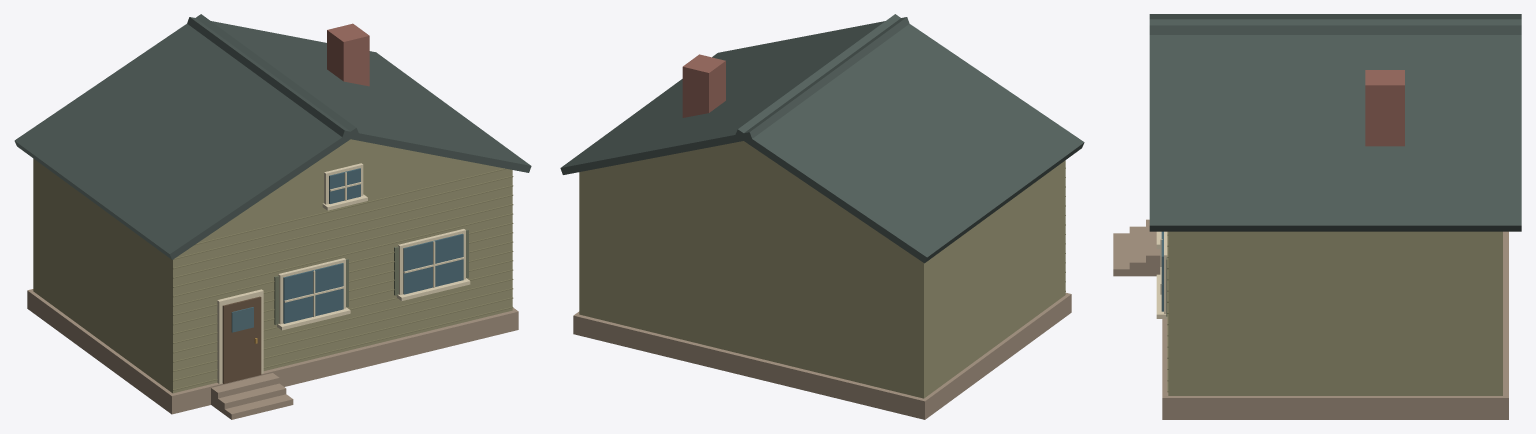
File: borrowed_split_level.glb
3 views of the same model, side by side, from view 1: azimuth 30°, elevation 25°; view 2: azimuth 150°, elevation 25°; view 3: azimuth 270°, elevation 25° (orthographic). The views are drawn at different scales.
Visible parts, largest first — view 1: Upper house, Sloping roof, Sloping roof.001, Foundation, Gable walls, Blue glazing, Door, Blue glazing.001, Brick chimney, Door casing, Front step, Front step.001 (+17 smaller); view 2: Upper house, Sloping roof, Sloping roof.001, Foundation, Gable walls, Brick chimney; view 3: Sloping roof.001, Upper house, Foundation, Sloping roof, Brick chimney, Front step.001, Front step.002, Front step.
Boxes of the visible parts, x1,y1,x2,y2 form: Upper house: (33,158,512,393); Sloping roof: (14,14,358,259); Sloping roof.001: (187,17,531,172); Foundation: (27,289,518,414); Gable walls: (199,139,502,241); Blue glazing: (283,263,343,323); Door: (222,296,261,383); Blue glazing.001: (403,233,463,294); Brick chimney: (327,23,369,86); Door casing: (217,289,263,383); Front step: (211,373,279,409); Front step.001: (218,383,286,414); Upper house: (579,160,1065,398); Sloping roof: (735,14,1084,263); Sloping roof.001: (560,17,909,174); Foundation: (573,293,1071,419); Gable walls: (590,141,897,245); Brick chimney: (682,54,725,117); Sloping roof.001: (1149,19,1521,231); Upper house: (1168,231,1502,395); Foundation: (1162,231,1508,419); Sloping roof: (1149,14,1521,34); Brick chimney: (1365,70,1404,146); Front step.001: (1129,226,1145,276); Front step.002: (1113,233,1129,276); Front step: (1146,219,1160,276).
Bounding box in the file's own units: 10.33 × 6.76 × 8.43.
